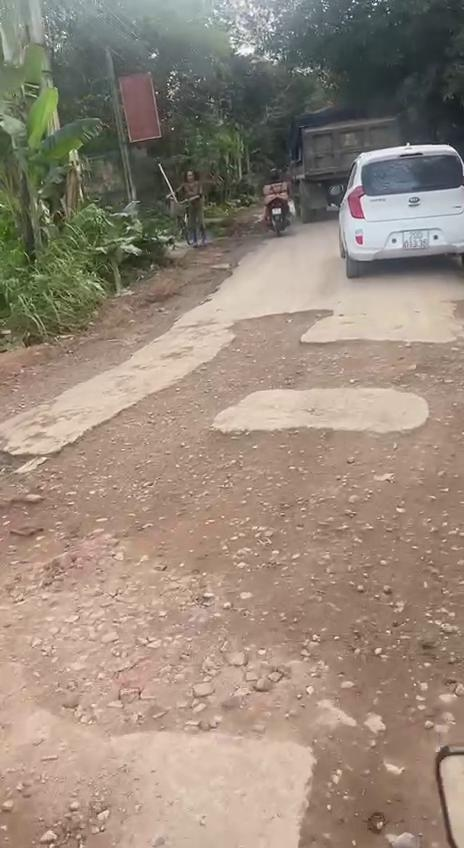pothole: (0, 296, 464, 756), (270, 723, 464, 848)
